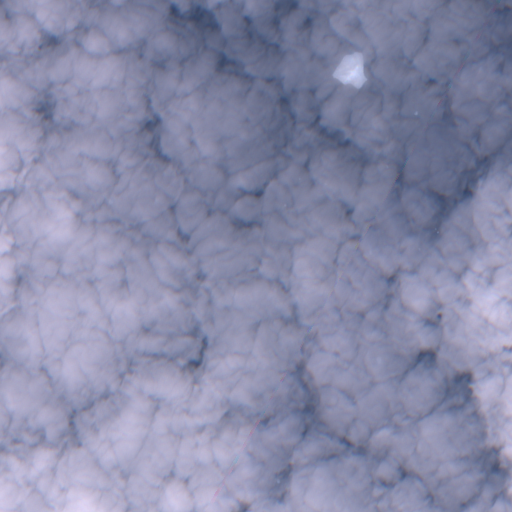Iceberg: (332, 52, 366, 88), (414, 111, 417, 114)
